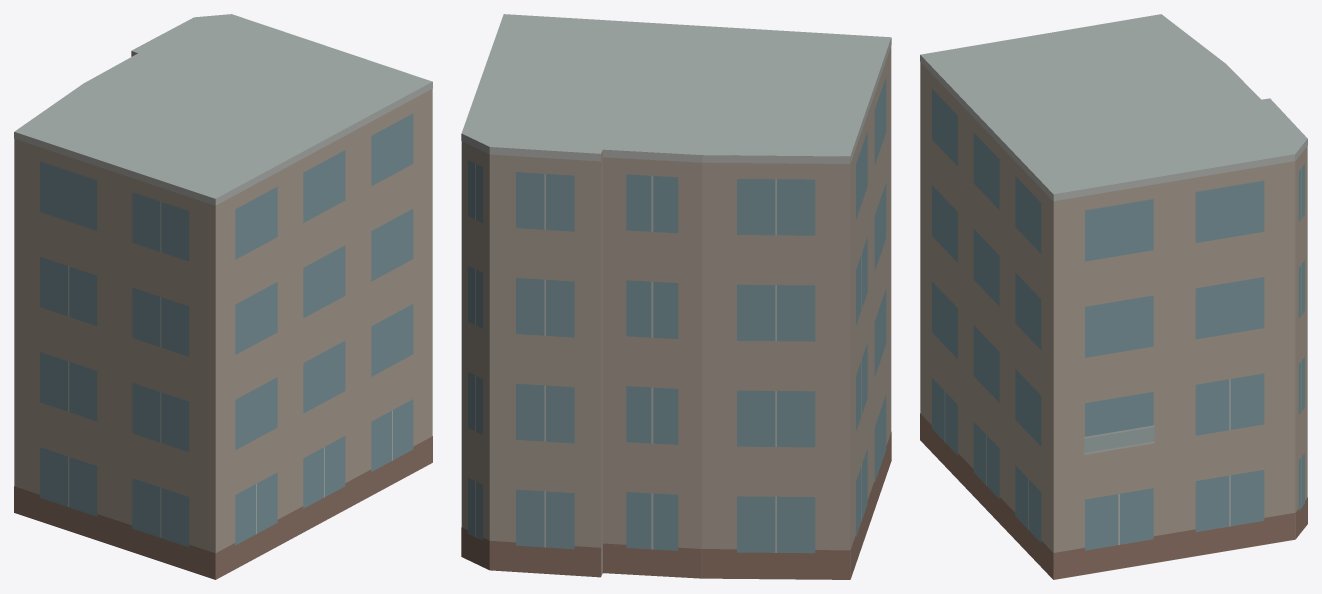
The model's file is survey-upis-33029961.glb.
The picture shows the model from 3 angles, left to right: view 1: azimuth 30°, elevation 25°; view 2: azimuth 150°, elevation 25°; view 3: azimuth 270°, elevation 25°; orthographic projection. The views are drawn at different scales.
Visible parts, largest first — view 1: survey-upis-33029961.tmp; view 2: survey-upis-33029961.tmp; view 3: survey-upis-33029961.tmp.
Part boxes in pixels (bbox=[...]): survey-upis-33029961.tmp: bbox=[14, 14, 432, 579]; survey-upis-33029961.tmp: bbox=[461, 14, 891, 579]; survey-upis-33029961.tmp: bbox=[920, 14, 1307, 579].
Bounding box in the file's own units: 13.66 × 13.6 × 12.4.
